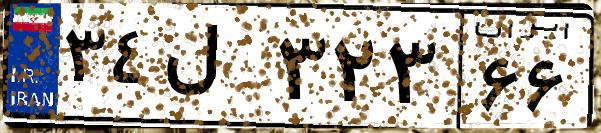2: (330, 28, 385, 110)
3: (270, 28, 330, 110), (385, 28, 445, 110), (57, 26, 110, 100)
4: (110, 28, 158, 98)
6: (475, 38, 525, 113), (525, 38, 570, 115)
ل: (158, 20, 270, 120)
